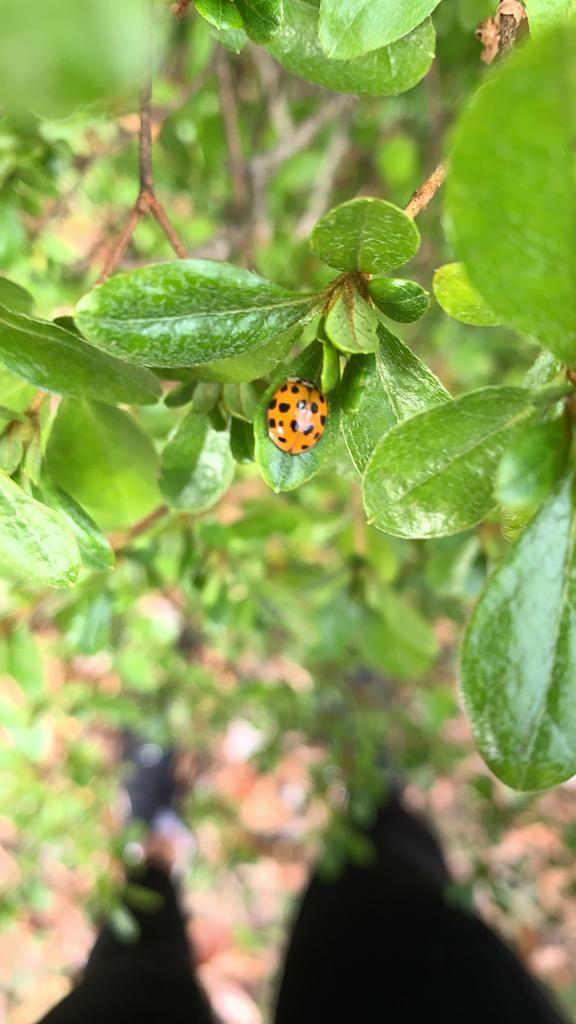ladybug: (264, 374, 334, 461)
